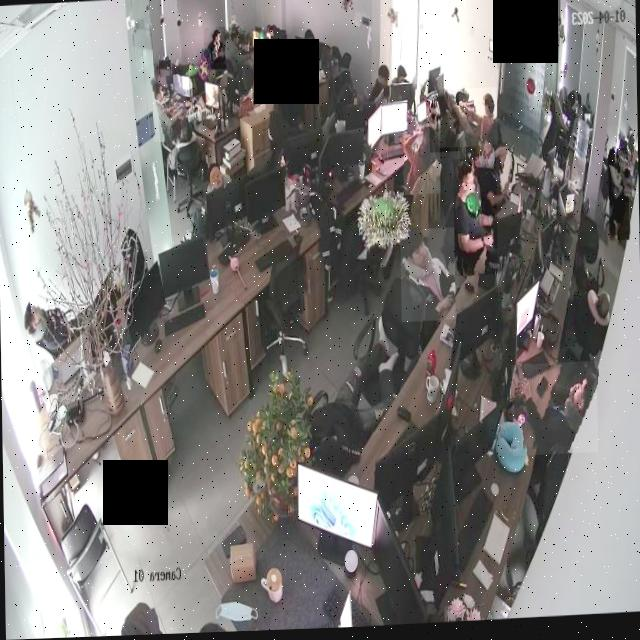person: (512, 365, 598, 460), (453, 161, 498, 280), (400, 230, 455, 325), (438, 91, 498, 151), (473, 143, 513, 222), (403, 124, 441, 198), (238, 57, 278, 118), (152, 77, 187, 143), (607, 153, 629, 245), (429, 93, 460, 156), (366, 65, 393, 104), (203, 28, 226, 71)
